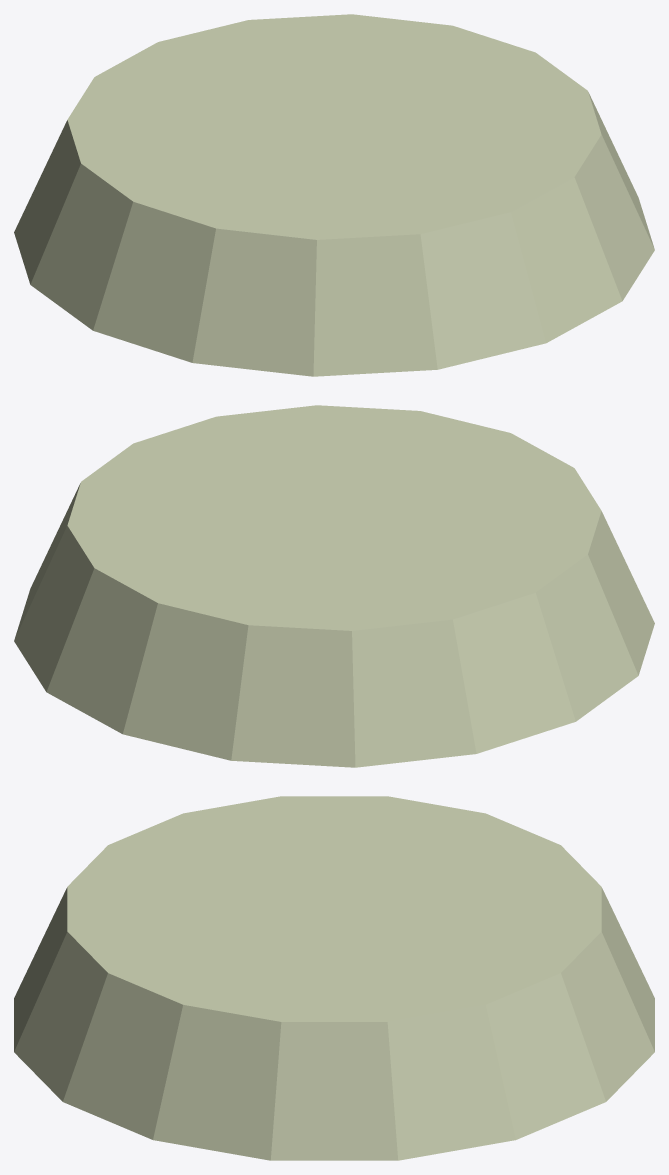
Rendered from Tantares_basic_engine_s1_1_collider.obj.
3 renders of one model, top to bottom at view 1: azimuth 30°, elevation 25°; view 2: azimuth 150°, elevation 25°; view 3: azimuth 270°, elevation 25°, orthographic.
Visible parts, largest first — view 1: collider; view 2: collider; view 3: collider.
Boxes of the visible parts, x1=… form: collider: x1=14, y1=14, x2=654, y2=376; collider: x1=14, y1=405, x2=654, y2=767; collider: x1=14, y1=796, x2=654, y2=1160.
Bounding box in the file's own units: 1.5 × 0.3 × 1.5.
